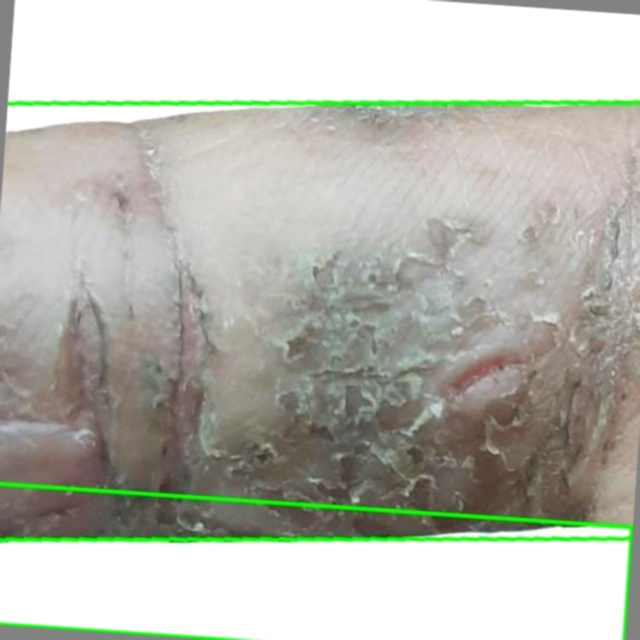Eczema: (0, 103, 639, 540), (0, 483, 632, 639)
